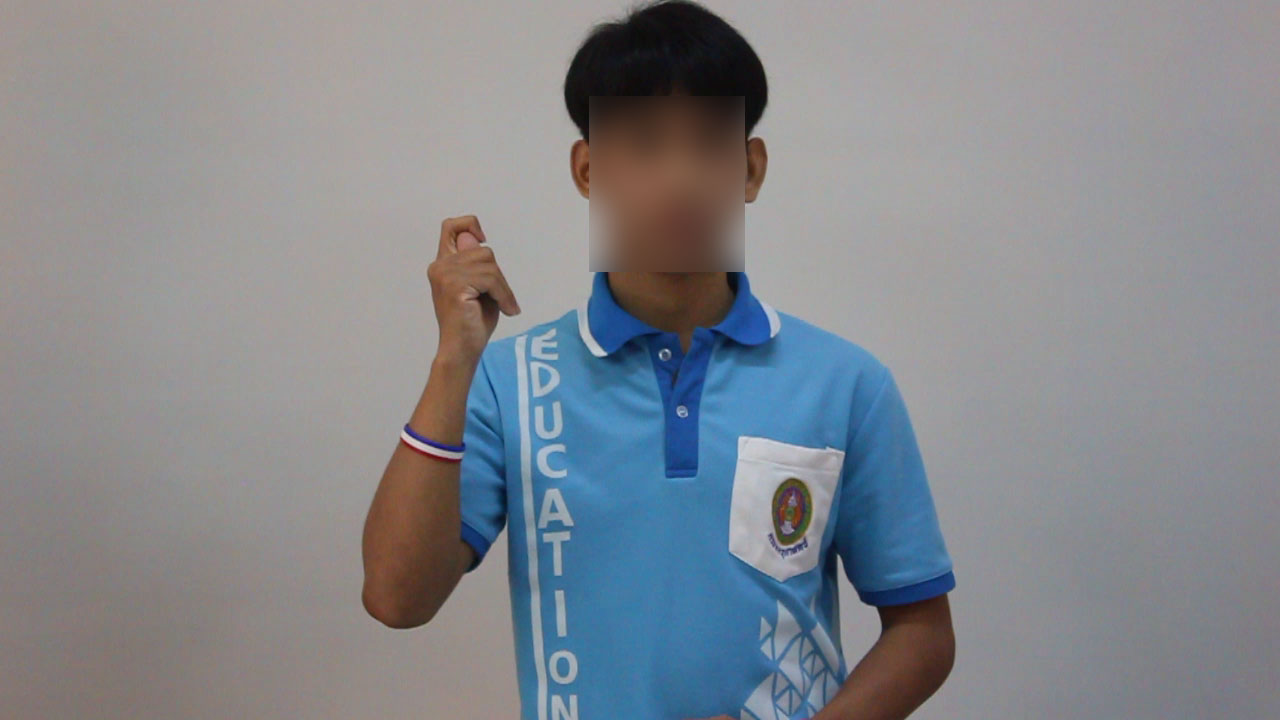or: (422, 208, 528, 381)
